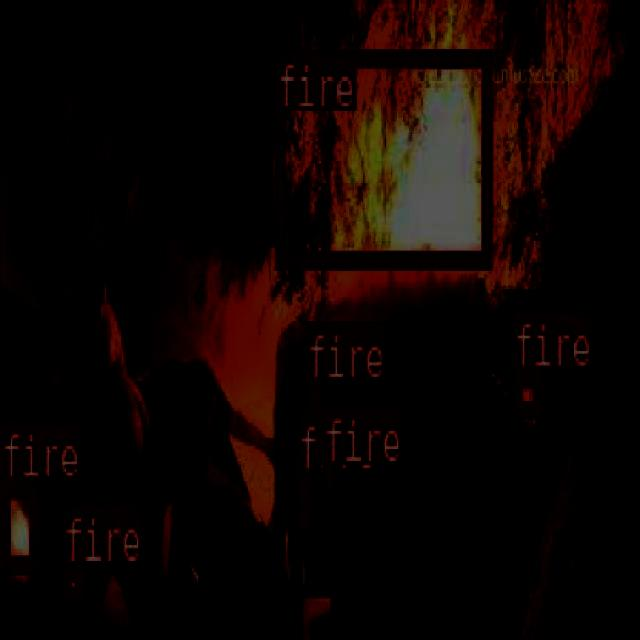fire: (274, 48, 490, 266), (0, 477, 38, 570), (511, 368, 542, 414), (296, 470, 310, 532), (60, 564, 82, 601), (304, 378, 320, 413), (320, 464, 332, 488)
